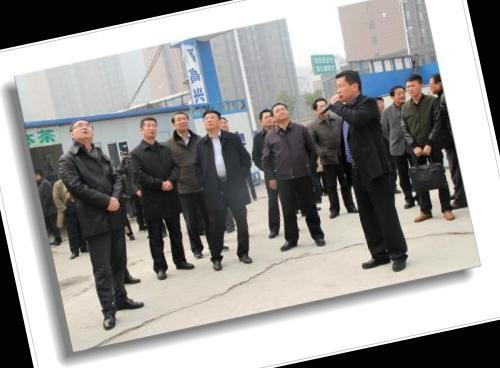no_helmet: (328, 62, 368, 104), (66, 114, 98, 150), (196, 105, 225, 139), (134, 112, 162, 144), (167, 105, 194, 138), (403, 68, 428, 102), (268, 98, 293, 128), (422, 69, 446, 98), (254, 105, 278, 134), (386, 82, 409, 110), (309, 94, 331, 121), (370, 93, 389, 115)
